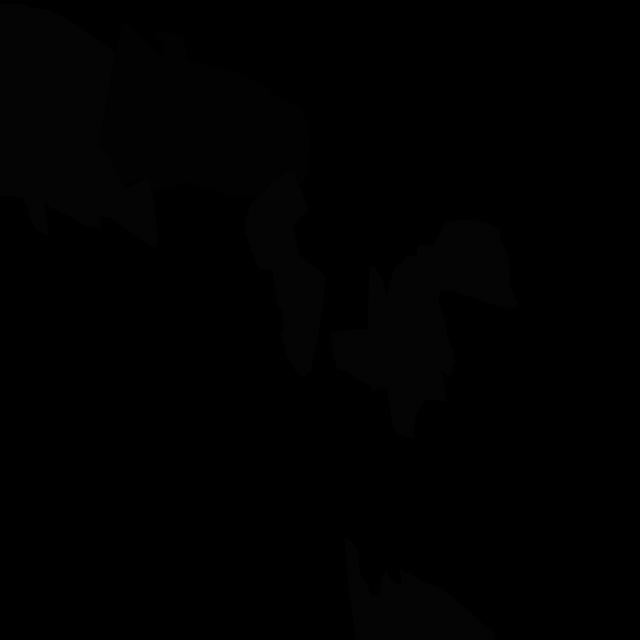cardboard: (99, 23, 310, 200)
soft_plastic: (330, 219, 518, 439), (0, 3, 158, 249), (245, 171, 325, 378), (345, 538, 495, 640)
